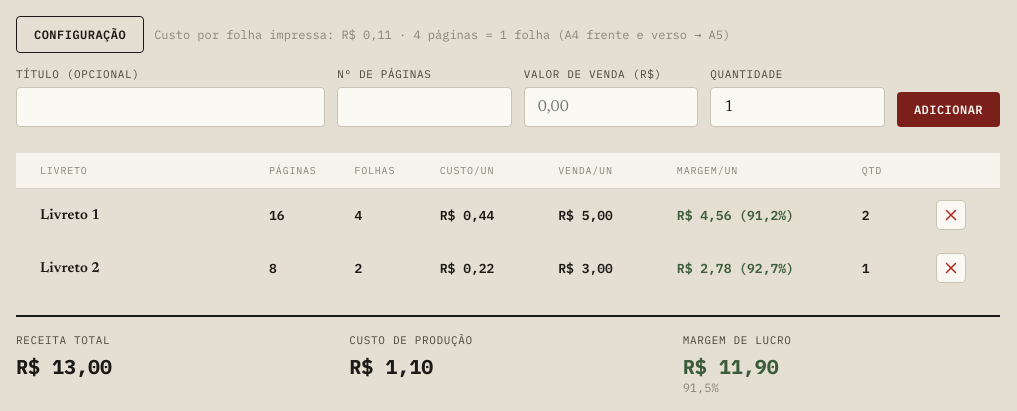
<CalculadoraLivretos /> › remover item atualiza os totais e o localStorage
Click the button named "Remover item" in the row of "Livreto 1".
click(951, 215)  # box left=936, top=200, right=966, bottom=230
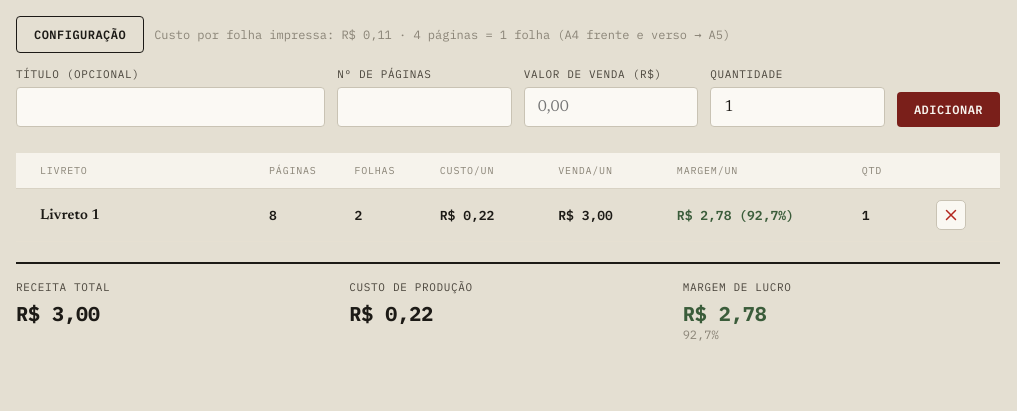
Check: the text "R$ 3,00" is shown, box left=16, top=300, right=100, bottom=327
